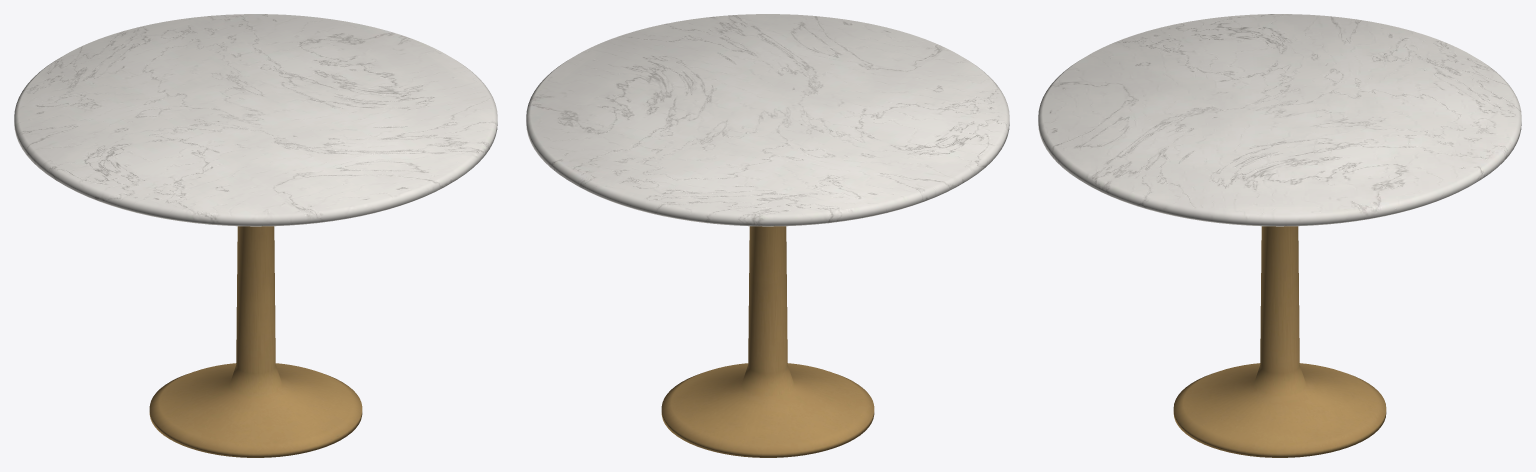
File: marble-round-pedestal.glb
3 views of the same model, side by side, from view 1: azimuth 30°, elevation 25°; view 2: azimuth 150°, elevation 25°; view 3: azimuth 270°, elevation 25° (orthographic).
Visible parts, largest first — view 1: marble_top, brass_base; view 2: marble_top, brass_base; view 3: marble_top, brass_base.
Boxes of the visible parts, left/top/right/bottom form: marble_top: left=14, top=14, right=497, bottom=226; brass_base: left=149, top=226, right=362, bottom=457; marble_top: left=526, top=14, right=1009, bottom=226; brass_base: left=661, top=226, right=874, bottom=457; marble_top: left=1038, top=14, right=1521, bottom=226; brass_base: left=1173, top=226, right=1386, bottom=457.
Bounding box in the file's own units: 1.1 × 0.75 × 1.1.
Materials: 2 (2 with a texture image).
